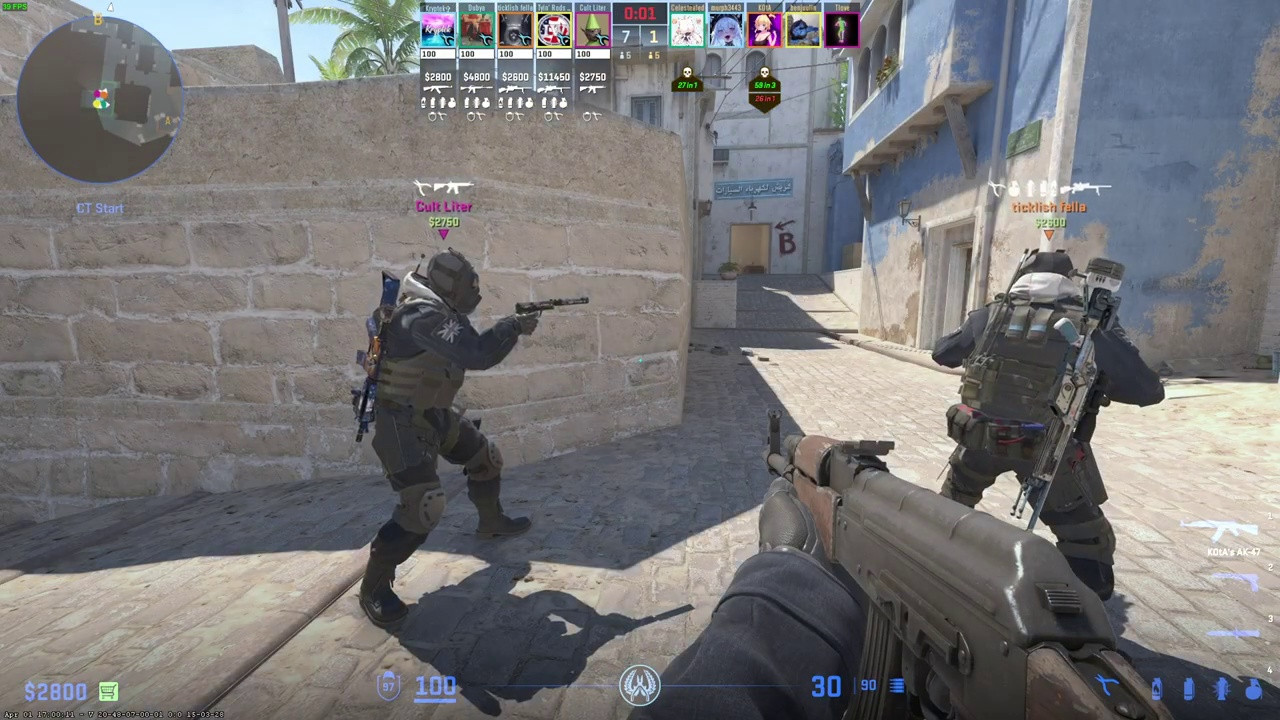CT: (941, 249, 1144, 583), (356, 247, 529, 617)
